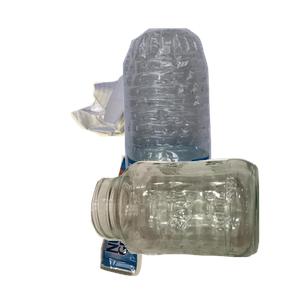glass: (88, 156, 300, 300)
paper: (68, 66, 215, 197)
plastic: (111, 26, 300, 206)
trash: (97, 152, 248, 300)
